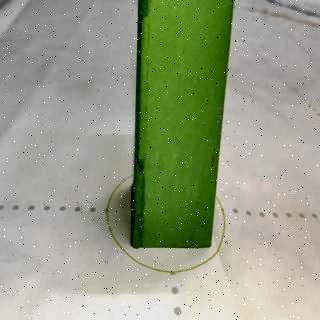greenbox: (132, 0, 233, 249)
